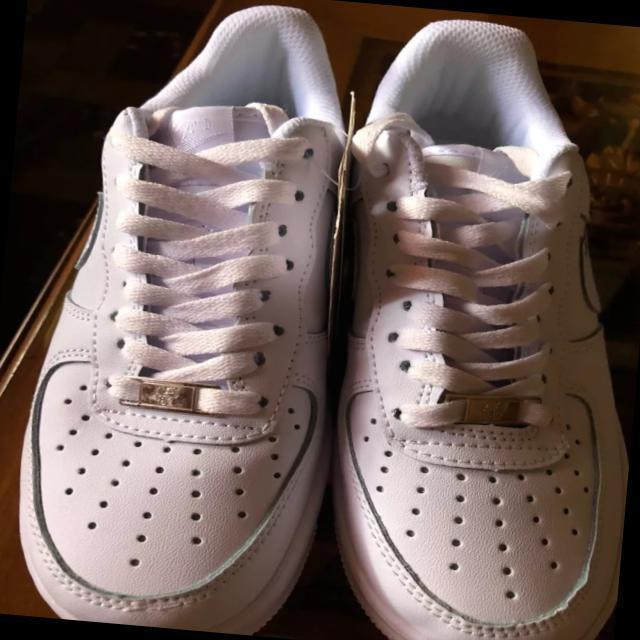nike fake air force: (12, 0, 368, 640), (299, 5, 640, 640)
